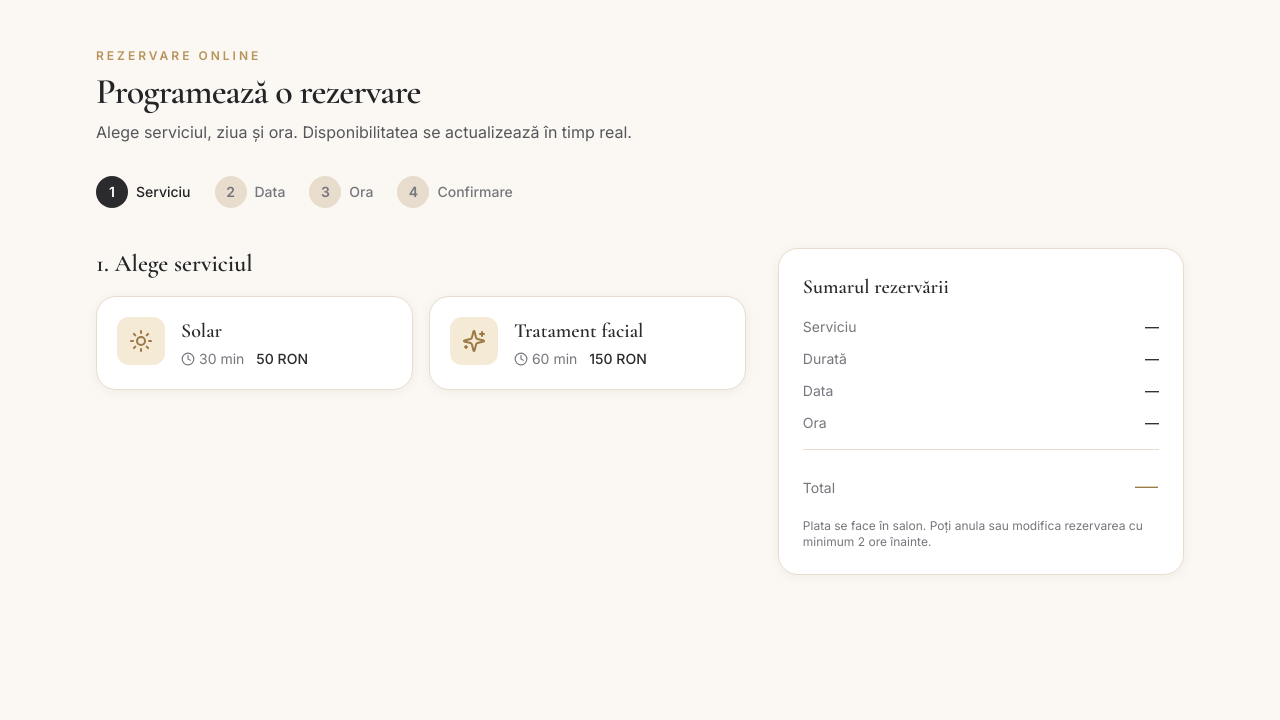
Scenario: Booking flow › shows an empty state for closed days
What coordinates should you click on to do the following:
click the button "Tratament facial 60 min 150 RON"
I would click on:
 (587, 343)
Its box is [429, 296, 746, 390].
(page scrolled)
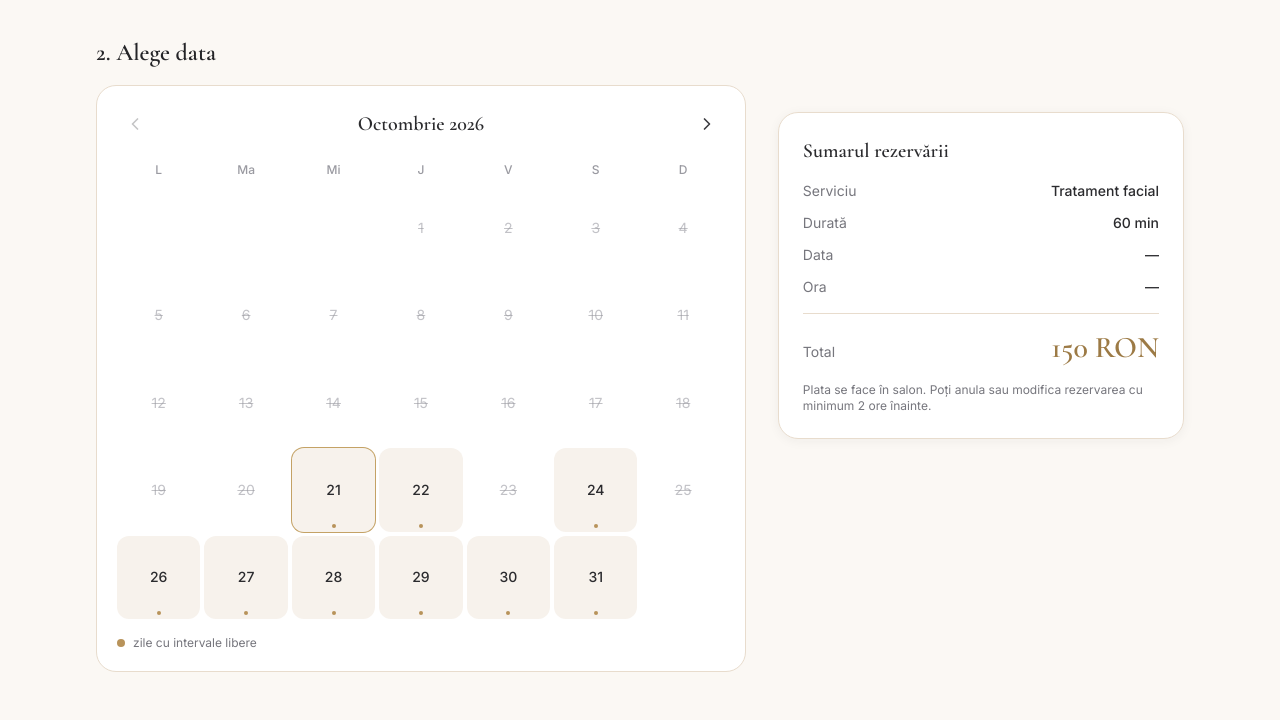
Expected: the button named "duminică, 25 octombrie 2026" is disabled, [641, 448, 725, 532]
Expected: the button named "vineri, 23 octombrie 2026" is disabled, [467, 448, 550, 532]
Expected: the button named "marți, 20 octombrie 2026" is disabled, [204, 448, 288, 532]
What coordinates should you click on to do the following:
click the button named "joi, 22 octombrie 2026"
I would click on:
 (421, 490)
Its box is [379, 448, 463, 532].
(page scrolled)
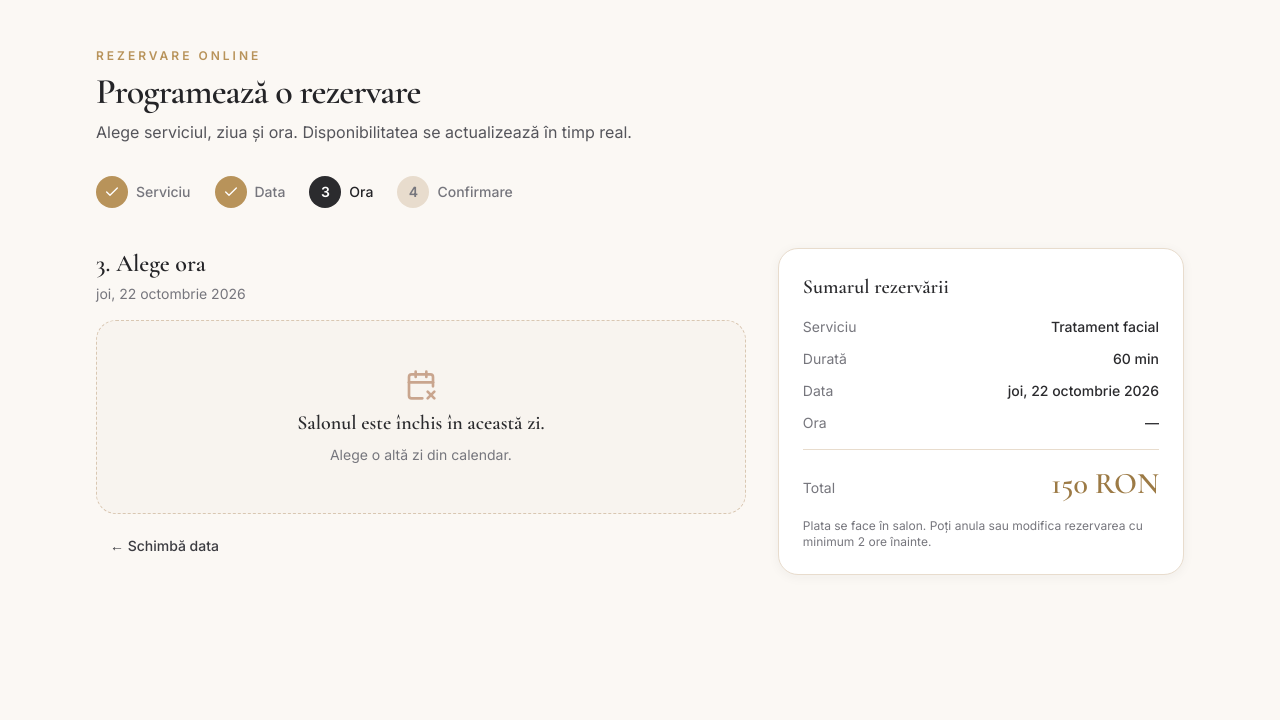
Expected: the text "Salonul este închis în această zi." is shown, [297, 409, 545, 437]
